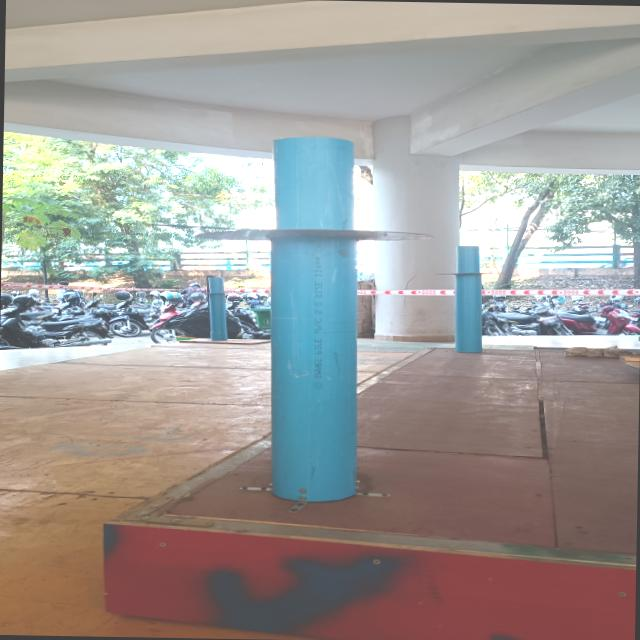pole: (190, 128, 432, 359)
